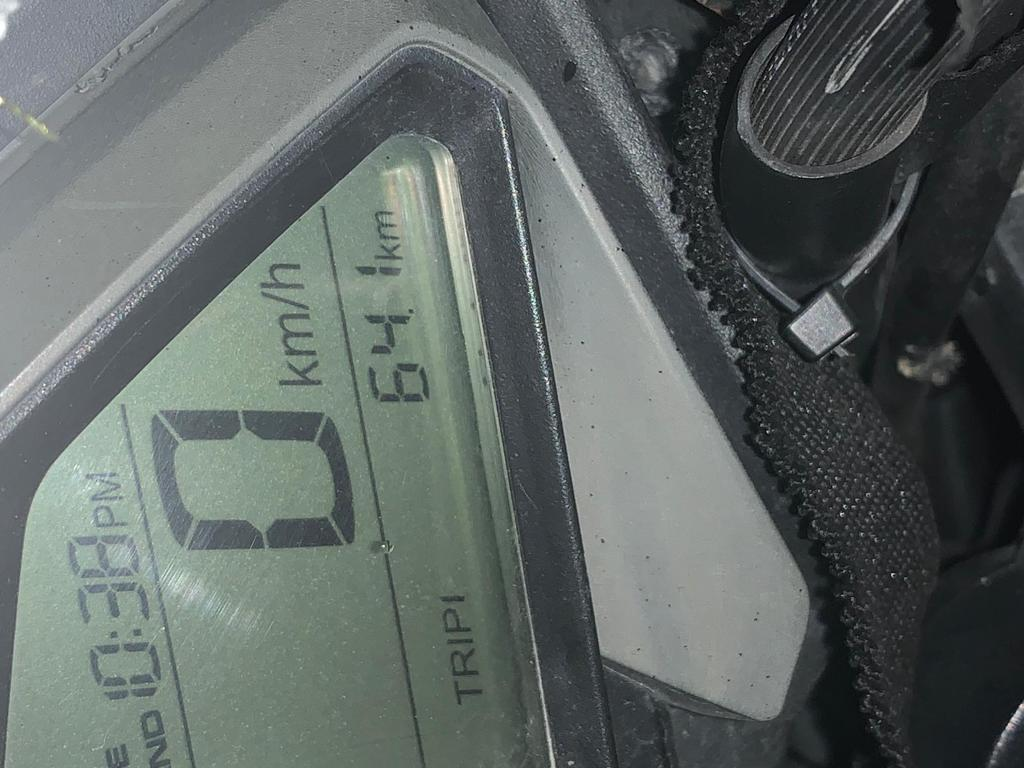,: (401, 304, 423, 315)
0: (151, 400, 358, 553), (87, 641, 161, 686)
1: (97, 684, 162, 704), (349, 263, 407, 280), (434, 590, 474, 602)
3: (70, 579, 154, 625)
4: (362, 312, 412, 355)
6: (364, 361, 432, 404)
8: (63, 531, 146, 578)
X: (279, 313, 317, 357), (256, 262, 303, 289), (276, 359, 323, 386), (84, 471, 124, 502), (258, 289, 310, 310), (438, 607, 476, 634), (449, 647, 480, 678), (91, 505, 130, 529), (139, 705, 165, 740), (145, 734, 172, 767), (452, 680, 485, 707), (374, 209, 399, 240), (102, 742, 131, 768), (372, 242, 404, 261), (106, 625, 144, 639), (442, 637, 477, 647)
odometer: (12, 115, 569, 768)
